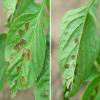Bell_pepper leaf spot: (4, 9, 46, 99), (57, 5, 96, 99)
